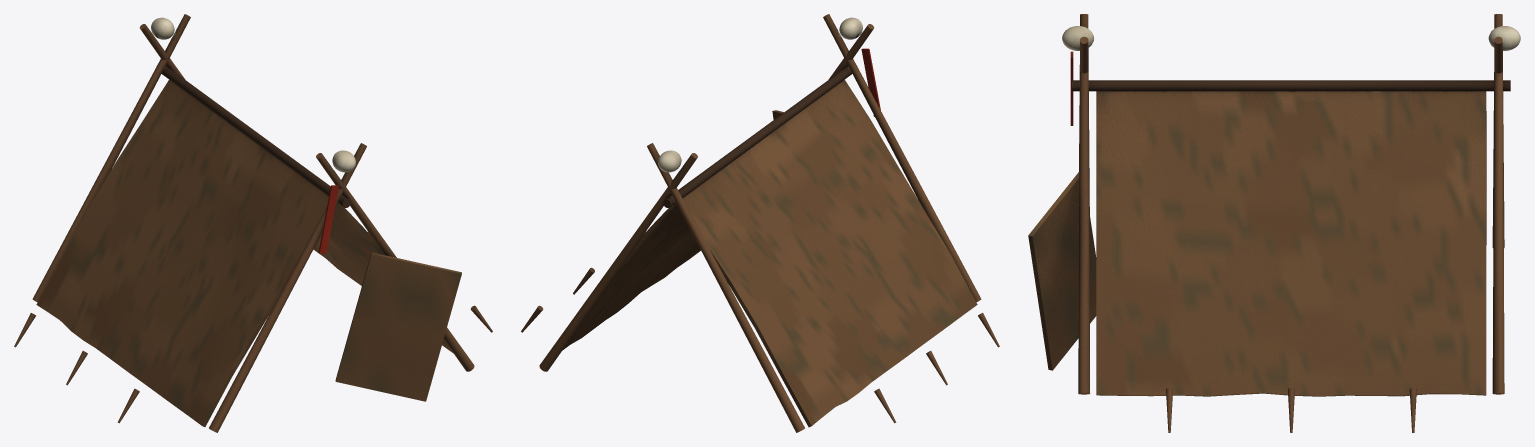
File: cenario_tenda_goblin.glb
The picture shows the model from 3 angles, left to right: view 1: azimuth 30°, elevation 25°; view 2: azimuth 150°, elevation 25°; view 3: azimuth 270°, elevation 25°; orthographic projection. The views are drawn at different scales.
Visible parts, largest first — view 1: cenario_tenda_goblin; view 2: cenario_tenda_goblin; view 3: cenario_tenda_goblin.
Boxes of the visible parts, x1=… form: cenario_tenda_goblin: x1=14, y1=14, x2=492, y2=432; cenario_tenda_goblin: x1=521, y1=14, x2=999, y2=432; cenario_tenda_goblin: x1=1028, y1=14, x2=1520, y2=432.
Bounding box in the file's own units: 4.18 × 2.76 × 4.04.
1 material, 1 textured.
